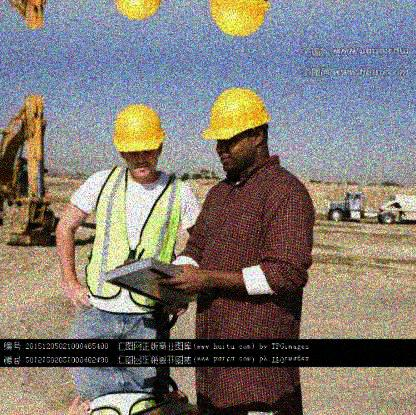helmet: (198, 89, 272, 173), (109, 103, 166, 178)
